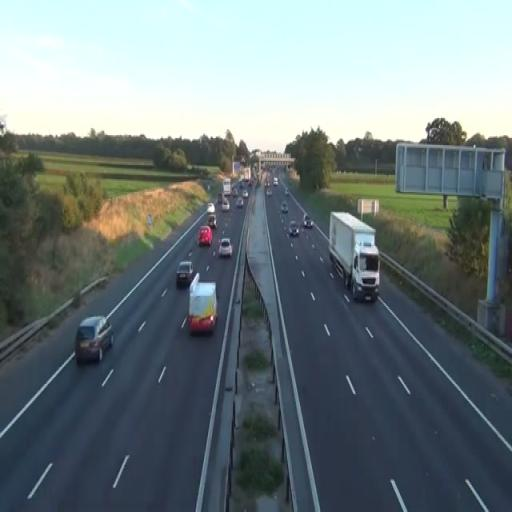Car: (76, 315, 114, 363), (188, 280, 218, 334), (176, 260, 197, 288), (198, 225, 212, 247), (218, 238, 232, 258), (288, 219, 300, 236), (303, 216, 313, 228)
Truck: (328, 211, 380, 302)
